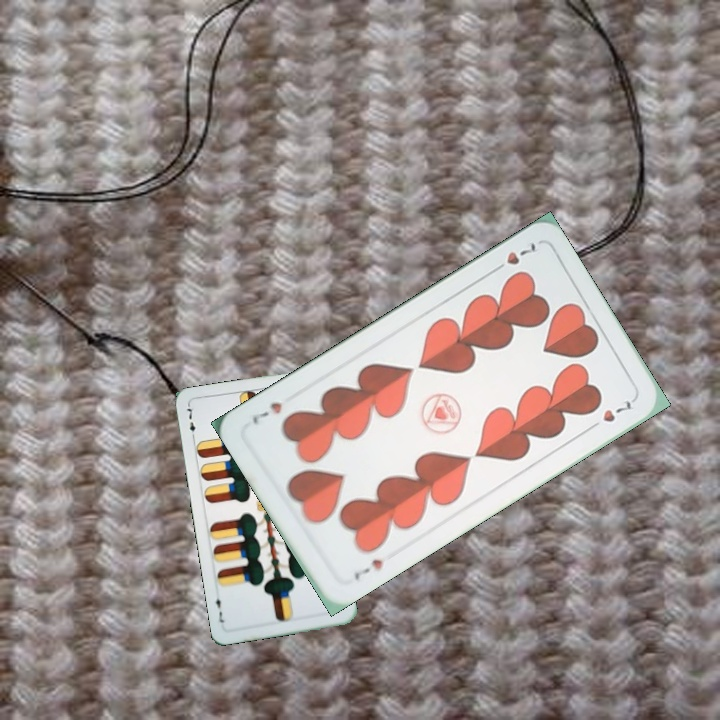E7: (182, 402, 198, 443)
H7: (487, 239, 541, 276), (349, 554, 386, 583)
